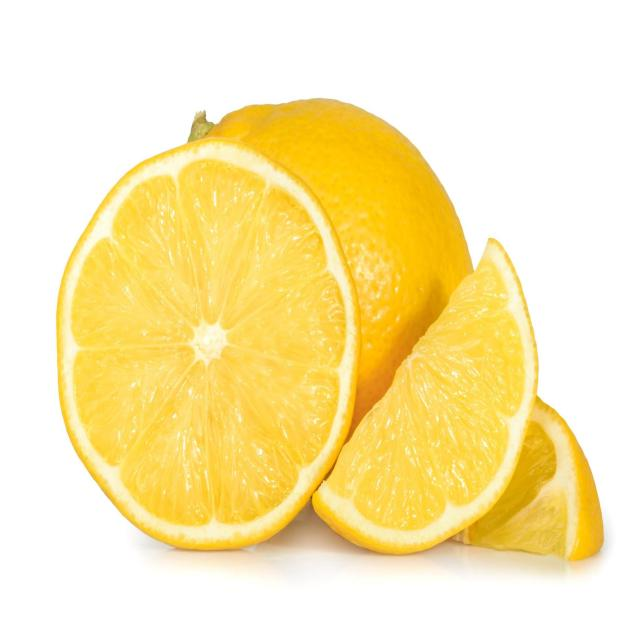lemon: (53, 134, 360, 556)
